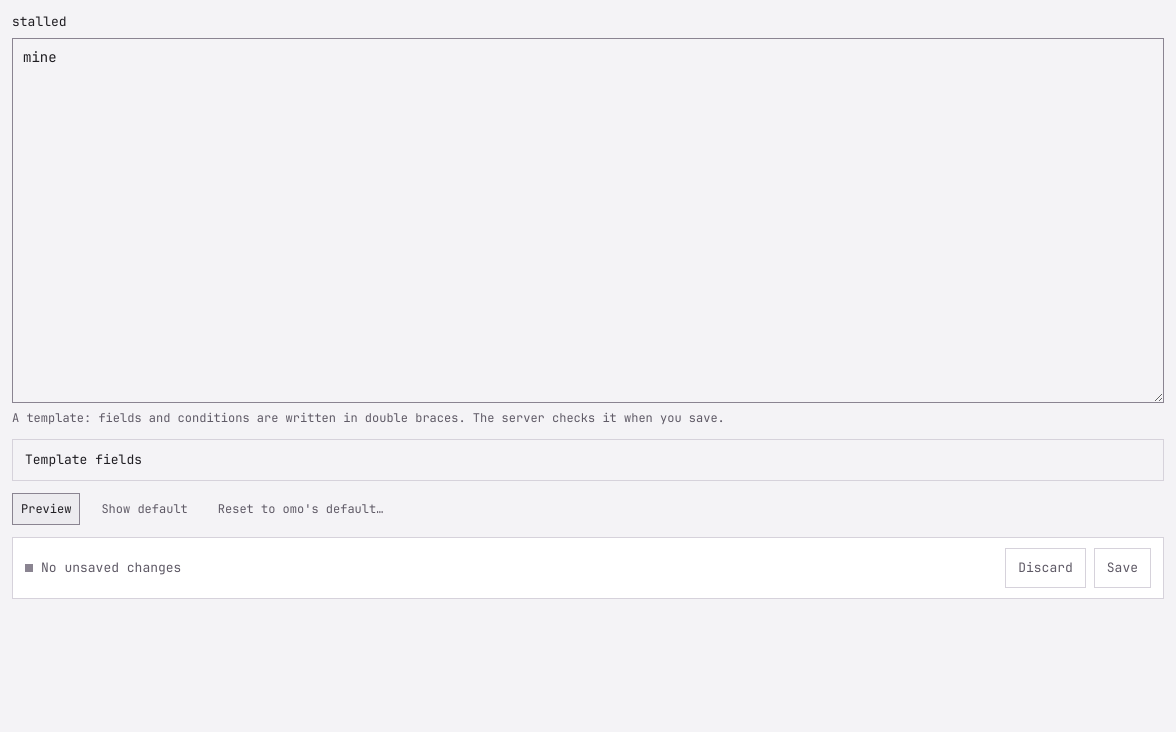
it: editor: a failed Reset shows the server's message
Click the button "Reset to omo's default…": (301,508) [209, 492, 392, 524]
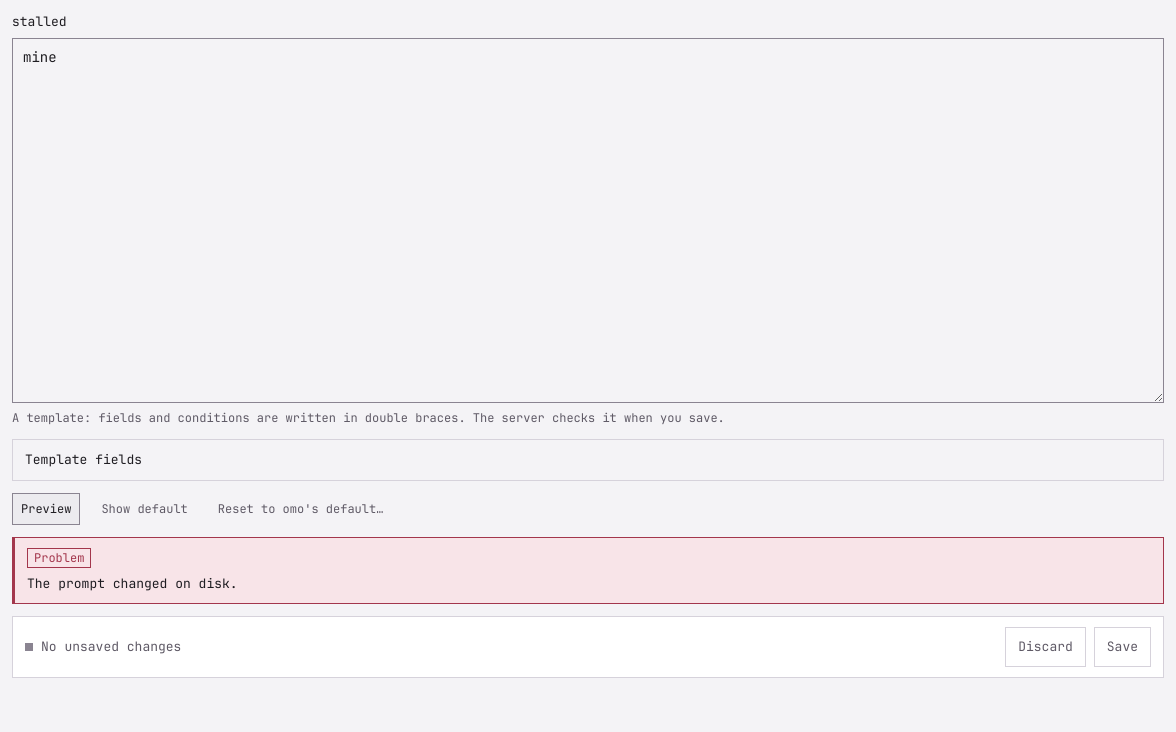
Expected: the element showing "Problem The prompt changed on disk." is shown, [12, 536, 1164, 604]
